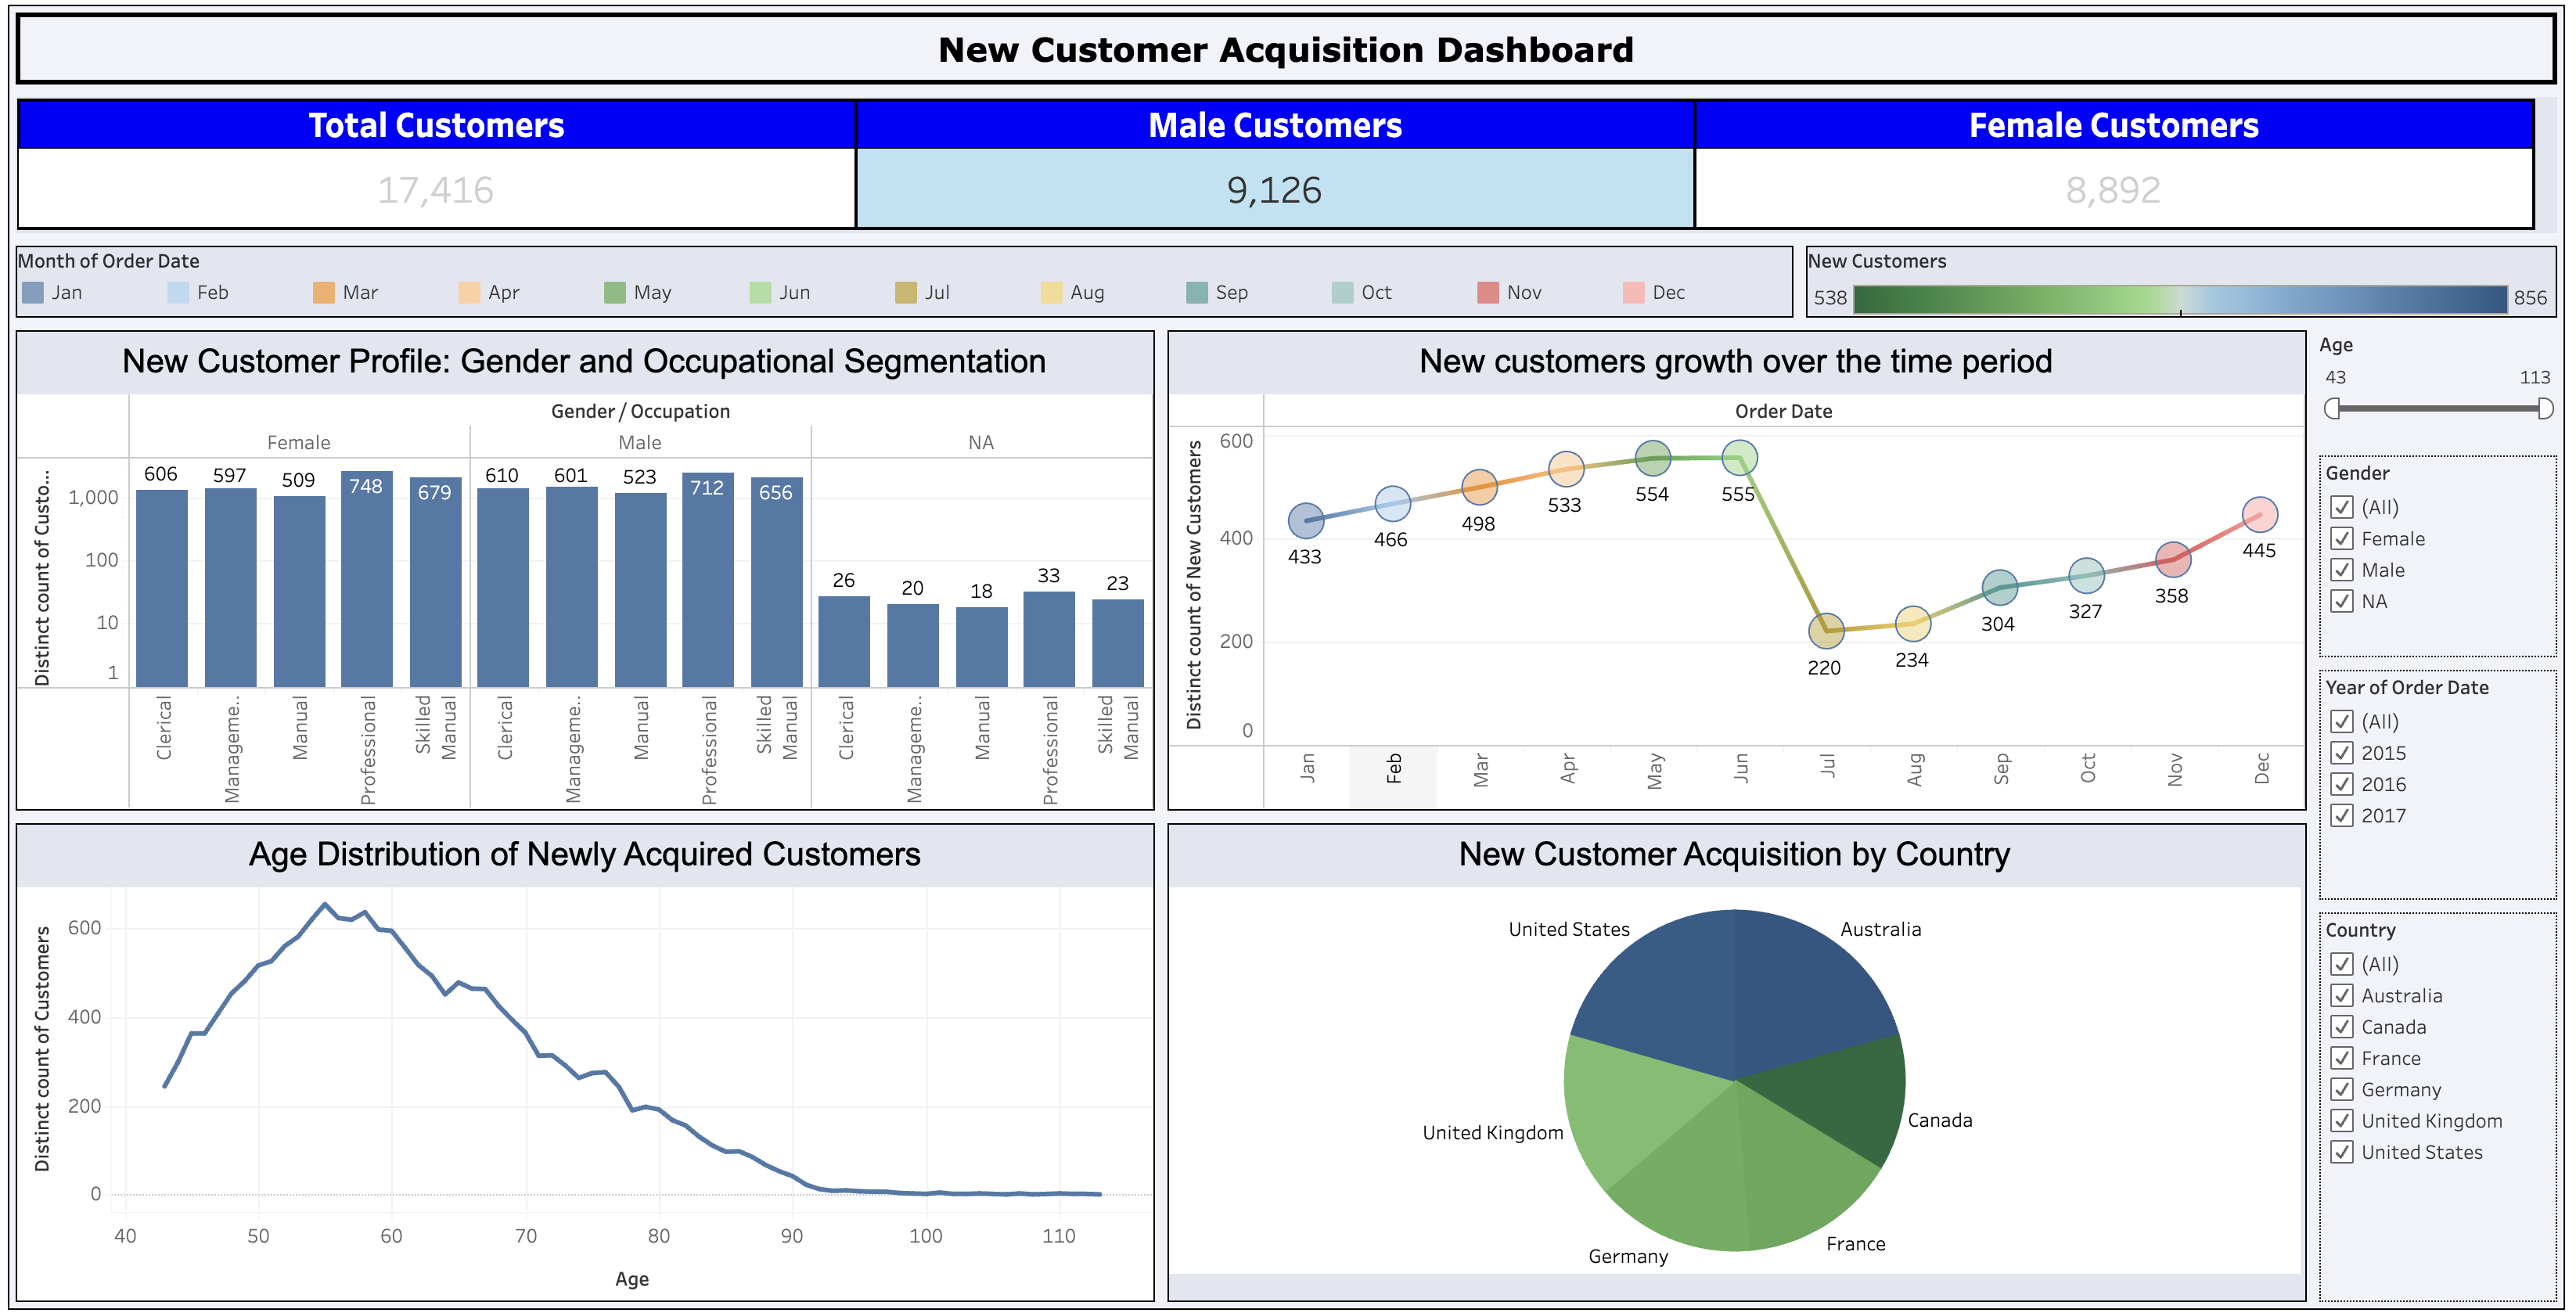

The page's visual inventory and layout, read from the dashboard file:
{"tool":"tableau","page":{"name":"New Customer Acquisition Dashboard","canvas":[1650,850],"ordinal":1},"visuals":[{"type":"text","box":[9,9,1632,53.7]},{"type":"worksheet","title":"KPI-2(Total Customers,Male Customers, Female Customers)","mark":"Automatic","box":[9,62.7,1632,95.3]},{"type":"legend","title":"New customers growth over the time period","param":"[federated.08hyrv91nuucvp1eubrd003z43lr].[mn:OrderDate:ok]","box":[9,158,1143.6,54.2]},{"type":"legend","title":"New Customer Acquisition by Country","param":"[federated.08hyrv91nuucvp1eubrd003z43lr].[ctd:Calculation_1433833561092988935:qk","box":[1152.6,158,488.4,54.2]},{"type":"worksheet","title":"New Customer Profile: Gender and Occupational Segmentation","mark":"Automatic","rows":["CustomerKey"],"cols":["Gender","Occupation"],"box":[9,212.2,736,314.4]},{"type":"worksheet","title":"New customers growth over the time period","mark":"Automatic","rows":["Calculation_1433833561092988935","Calculation_1433833561092988935"],"cols":["OrderDate"],"box":[745,212.2,736,314.4]},{"type":"filter","title":"Age Distribution of Newly Acquired Customers","param":"[federated.08hyrv91nuucvp1eubrd003z43lr].[none:Calculation_1433833561098285064:q","box":[1481,212.2,160,80]},{"type":"filter","title":"Age Distribution of Newly Acquired Customers","param":"[federated.08hyrv91nuucvp1eubrd003z43lr].[none:Gender:nk]","box":[1481,292.2,160,137]},{"type":"filter","title":"New customers growth over the time period","param":"[federated.08hyrv91nuucvp1eubrd003z43lr].[yr:OrderDate:ok]","box":[1481,429.1,160,154.9]},{"type":"worksheet","title":"Age Distribution of Newly Acquired Customers","mark":"Automatic","rows":["CustomerKey"],"cols":["Calculation_1433833561098285064"],"box":[9,526.6,736,314.4]},{"type":"worksheet","title":"New Customer Acquisition by Country","mark":"Pie","box":[745,526.6,736,314.4]},{"type":"filter","title":"New Customer Acquisition by Country","param":"[federated.08hyrv91nuucvp1eubrd003z43lr].[none:Country:nk]","box":[1481,584.1,160,256.9]}]}

Visuals, with their boxes in screenshot pixels (x1, y1, x2, y2), scaled from the page's 1650x850 canvas onto the 2576x1313 screenshot:
text: <box>14,14,2562,97</box>
"KPI-2(Total Customers,Male Customers, Female Customers)" worksheet: <box>14,97,2562,244</box>
"New customers growth over the time period" legend: <box>14,244,1800,328</box>
"New Customer Acquisition by Country" legend: <box>1800,244,2562,328</box>
"New Customer Profile: Gender and Occupational Segmentation" worksheet: <box>14,328,1163,814</box>
"New customers growth over the time period" worksheet: <box>1163,328,2312,814</box>
"Age Distribution of Newly Acquired Customers" filter: <box>2312,328,2562,451</box>
"Age Distribution of Newly Acquired Customers" filter: <box>2312,451,2562,663</box>
"New customers growth over the time period" filter: <box>2312,663,2562,902</box>
"Age Distribution of Newly Acquired Customers" worksheet: <box>14,814,1163,1299</box>
"New Customer Acquisition by Country" worksheet (Pie marks): <box>1163,814,2312,1299</box>
"New Customer Acquisition by Country" filter: <box>2312,902,2562,1299</box>
